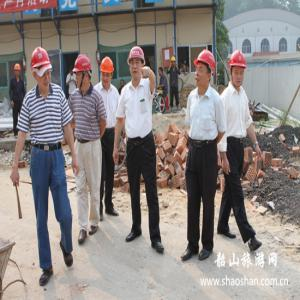none: (69, 65, 75, 76), (159, 66, 164, 77), (181, 58, 186, 68), (121, 79, 126, 88)
red: (30, 46, 53, 88), (195, 48, 218, 89), (228, 49, 247, 88), (74, 54, 94, 89), (127, 47, 147, 81)
yellow: (100, 57, 116, 86), (14, 62, 22, 78), (171, 55, 177, 68)
